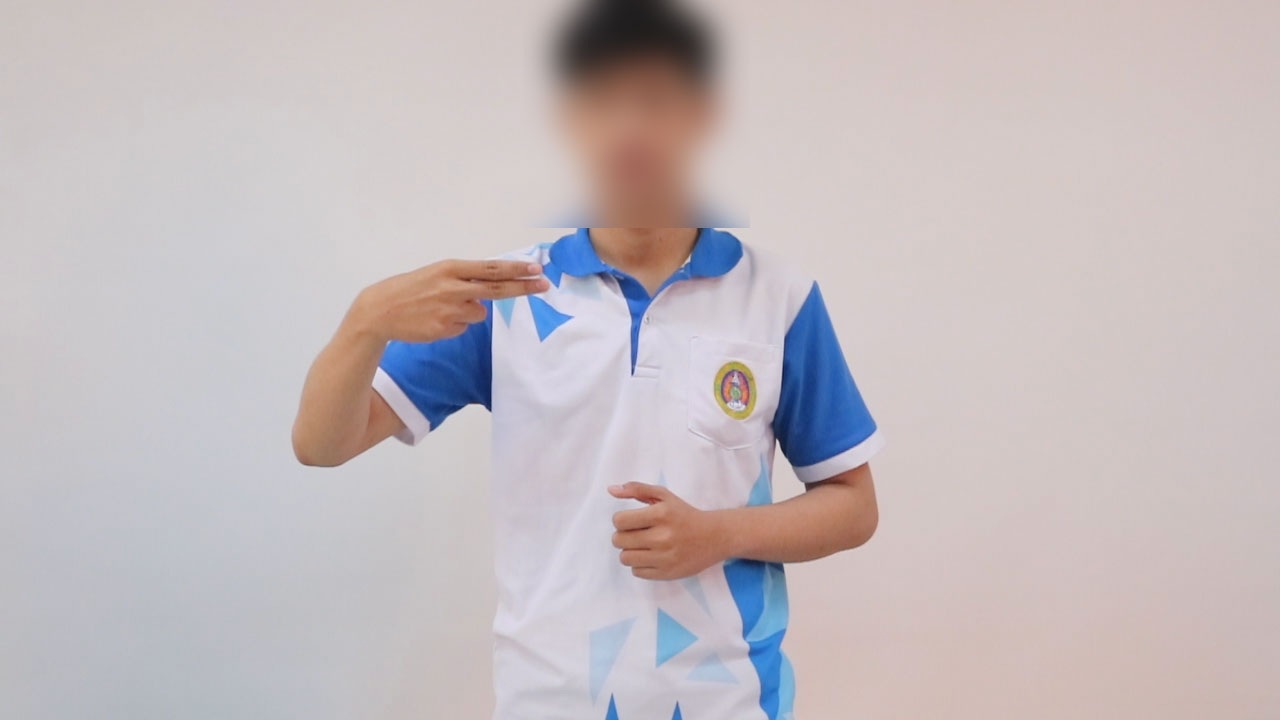hor: (338, 250, 559, 352)
